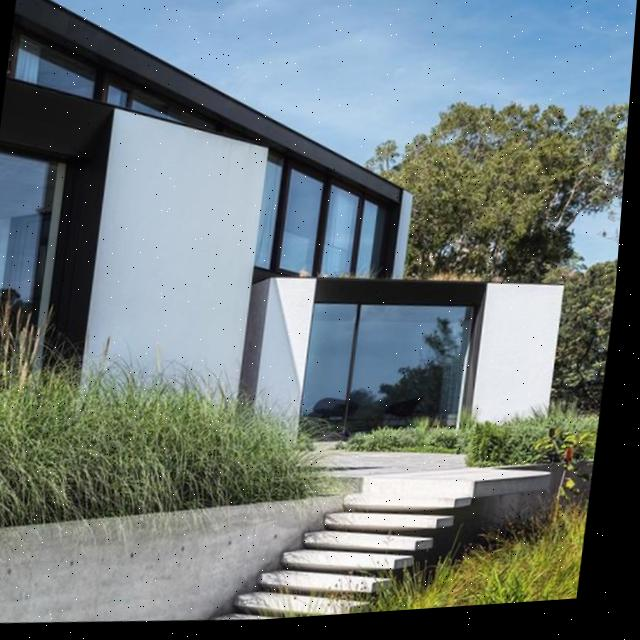building: (0, 0, 608, 492)
